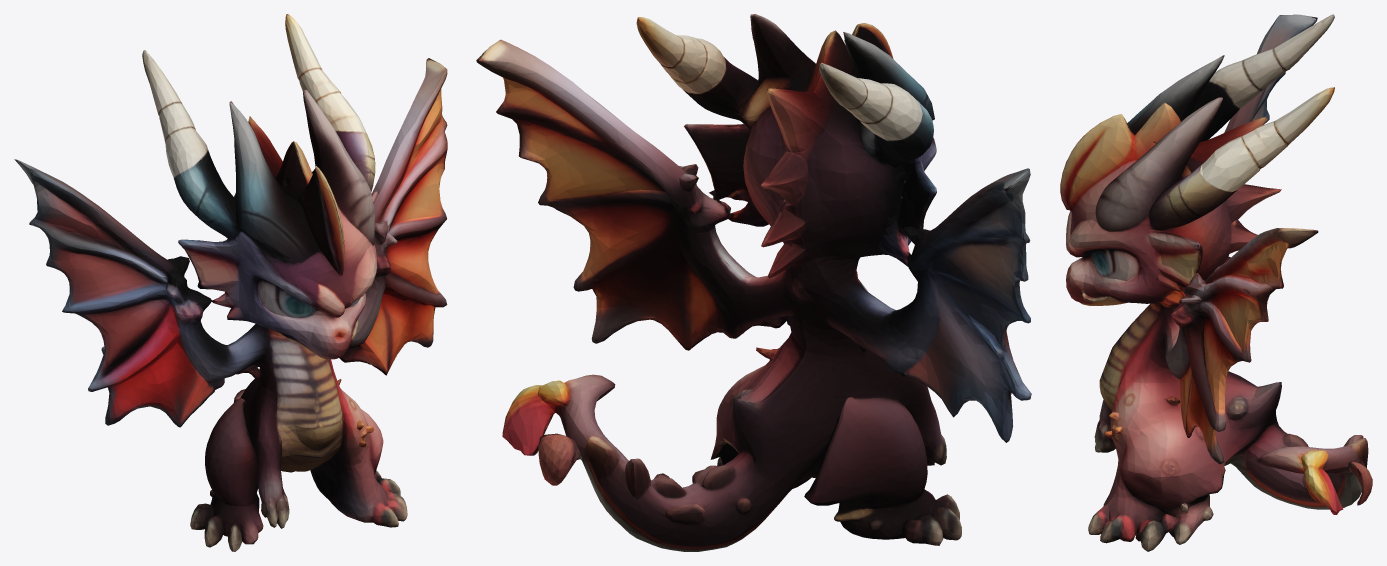
The picture shows the model from 3 angles, left to right: view 1: azimuth 30°, elevation 25°; view 2: azimuth 150°, elevation 25°; view 3: azimuth 270°, elevation 25°; orthographic projection. The views are drawn at different scales.
Parts seen in each view (by area): view 1: world; view 2: world; view 3: world.
Part boxes in pixels (x1=…): world: x1=14, y1=14, x2=447, y2=551; world: x1=476, y1=14, x2=1031, y2=551; world: x1=1060, y1=14, x2=1372, y2=551.
Bounding box in the file's own units: 1 × 0.9873 × 0.6151.
Materials: 1 (1 with a texture image).
